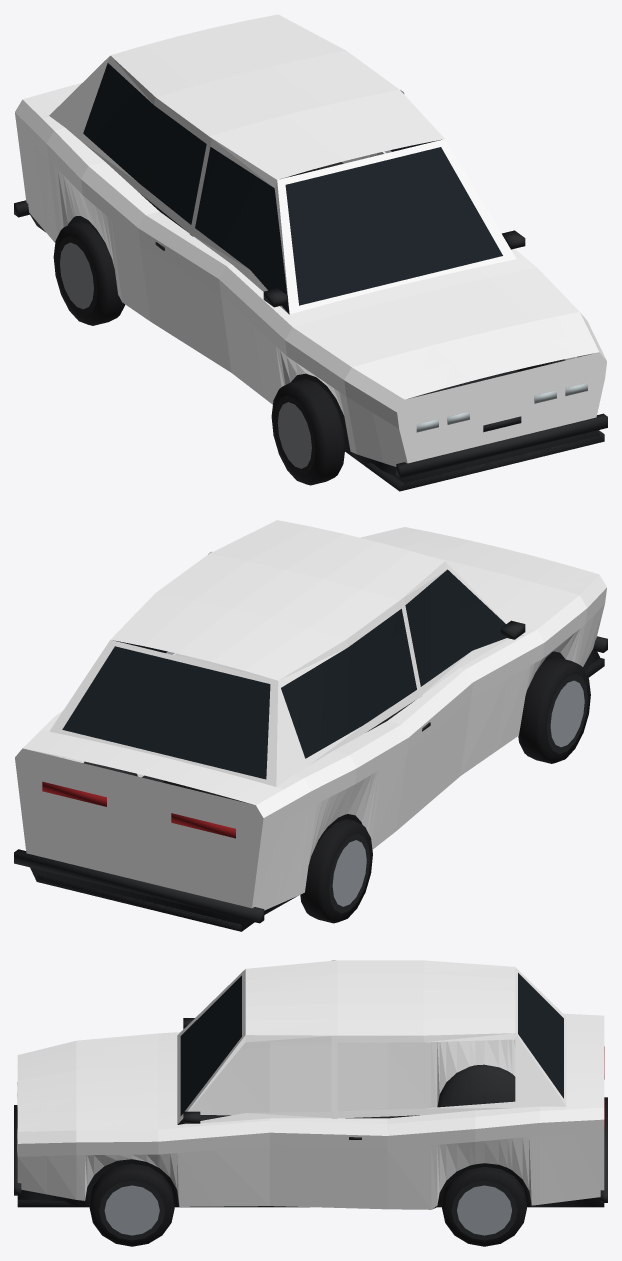
File: vallon_atico.glb
3 renders of one model, top to bottom at view 1: azimuth 30°, elevation 25°; view 2: azimuth 150°, elevation 25°; view 3: azimuth 270°, elevation 25°, orthographic. The views are drawn at different scales.
Parts seen in each view (by area): view 1: Body_Paint, Body_Details, Mount_FrontLeft_Wheel_Details, Mount_RearLeft_Wheel_Details; view 2: Body_Paint, Body_Details, Mount_FrontLeft_Wheel_Details, Mount_RearLeft_Wheel_Details; view 3: Body_Paint, Body_Details, Mount_FrontRight_Wheel_Details, Mount_RearRight_Wheel_Details.
Boxes of the visible parts, x1,y1,x2,y2 form: Body_Paint: (15, 14, 606, 466); Body_Details: (14, 63, 607, 491); Mount_FrontLeft_Wheel_Details: (271, 379, 345, 485); Mount_RearLeft_Wheel_Details: (53, 221, 125, 325); Body_Paint: (15, 520, 606, 910); Body_Details: (14, 569, 607, 931); Mount_FrontLeft_Wheel_Details: (518, 657, 590, 763); Mount_RearLeft_Wheel_Details: (300, 819, 372, 923); Body_Paint: (17, 960, 604, 1209); Body_Details: (14, 973, 607, 1209); Mount_FrontRight_Wheel_Details: (89, 1163, 174, 1246); Mount_RearRight_Wheel_Details: (442, 1166, 526, 1246).
Size of the model in its own units: 1.97 by 1.68 by 4.53.
Materials: 2 (1 with a texture image).
